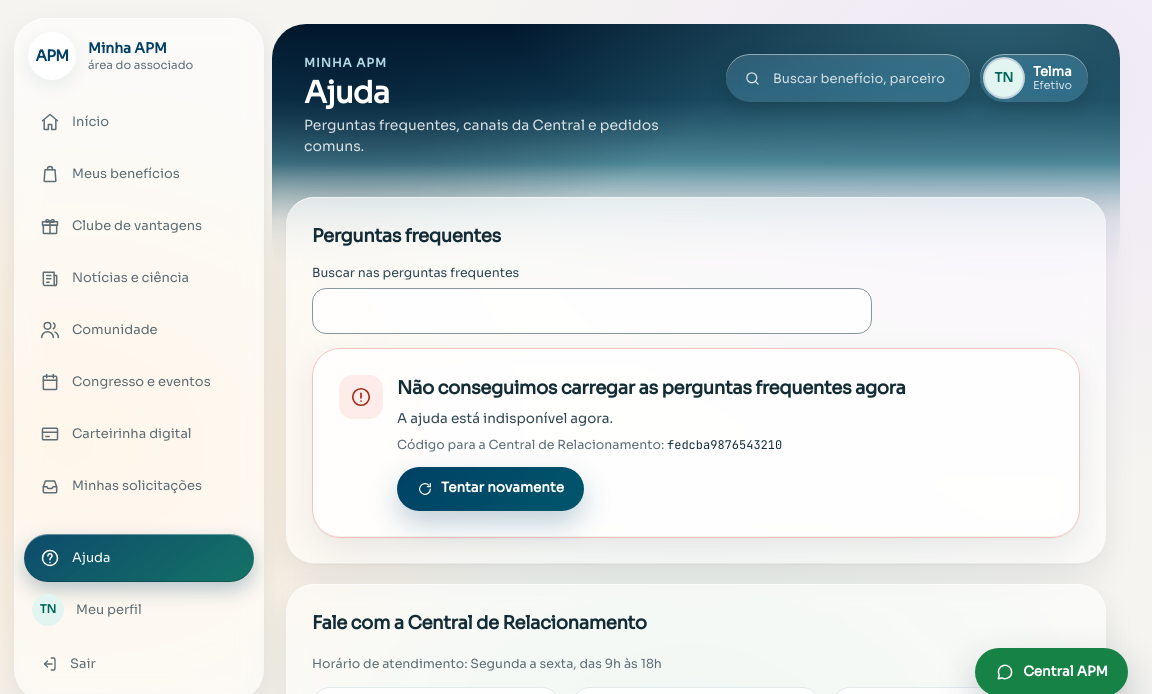
Test case: Ajuda e atendimento (P14; RF-AJ-01..05) › FAQ com erro: request_id e tentar novamente
Expected: the message is shown, [312,348,1080,538]
Expected: the text "fedcba9876543210" is shown, [667,437,782,453]
Click the button "Tentar novamente" at (490, 489), box [397,467,584,511]
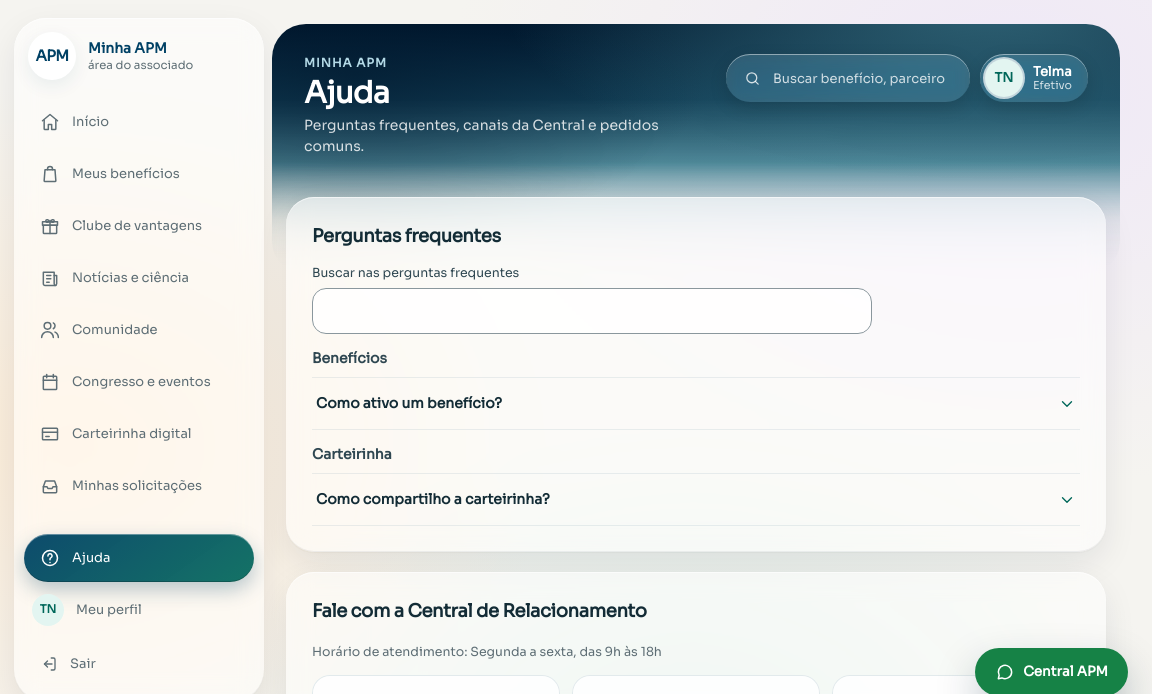
Now the button "Como ativo um benefício?" is shown, box [312,378,1080,430]
